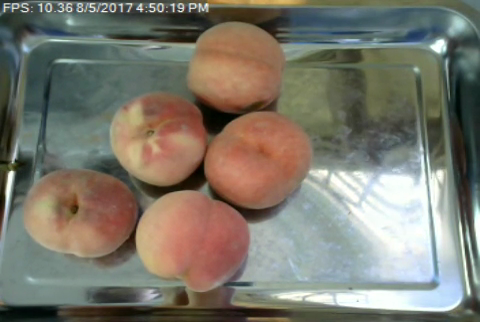Peach: (134, 190, 248, 290), (22, 167, 138, 257), (206, 110, 309, 209), (108, 91, 207, 186), (187, 21, 283, 113)
